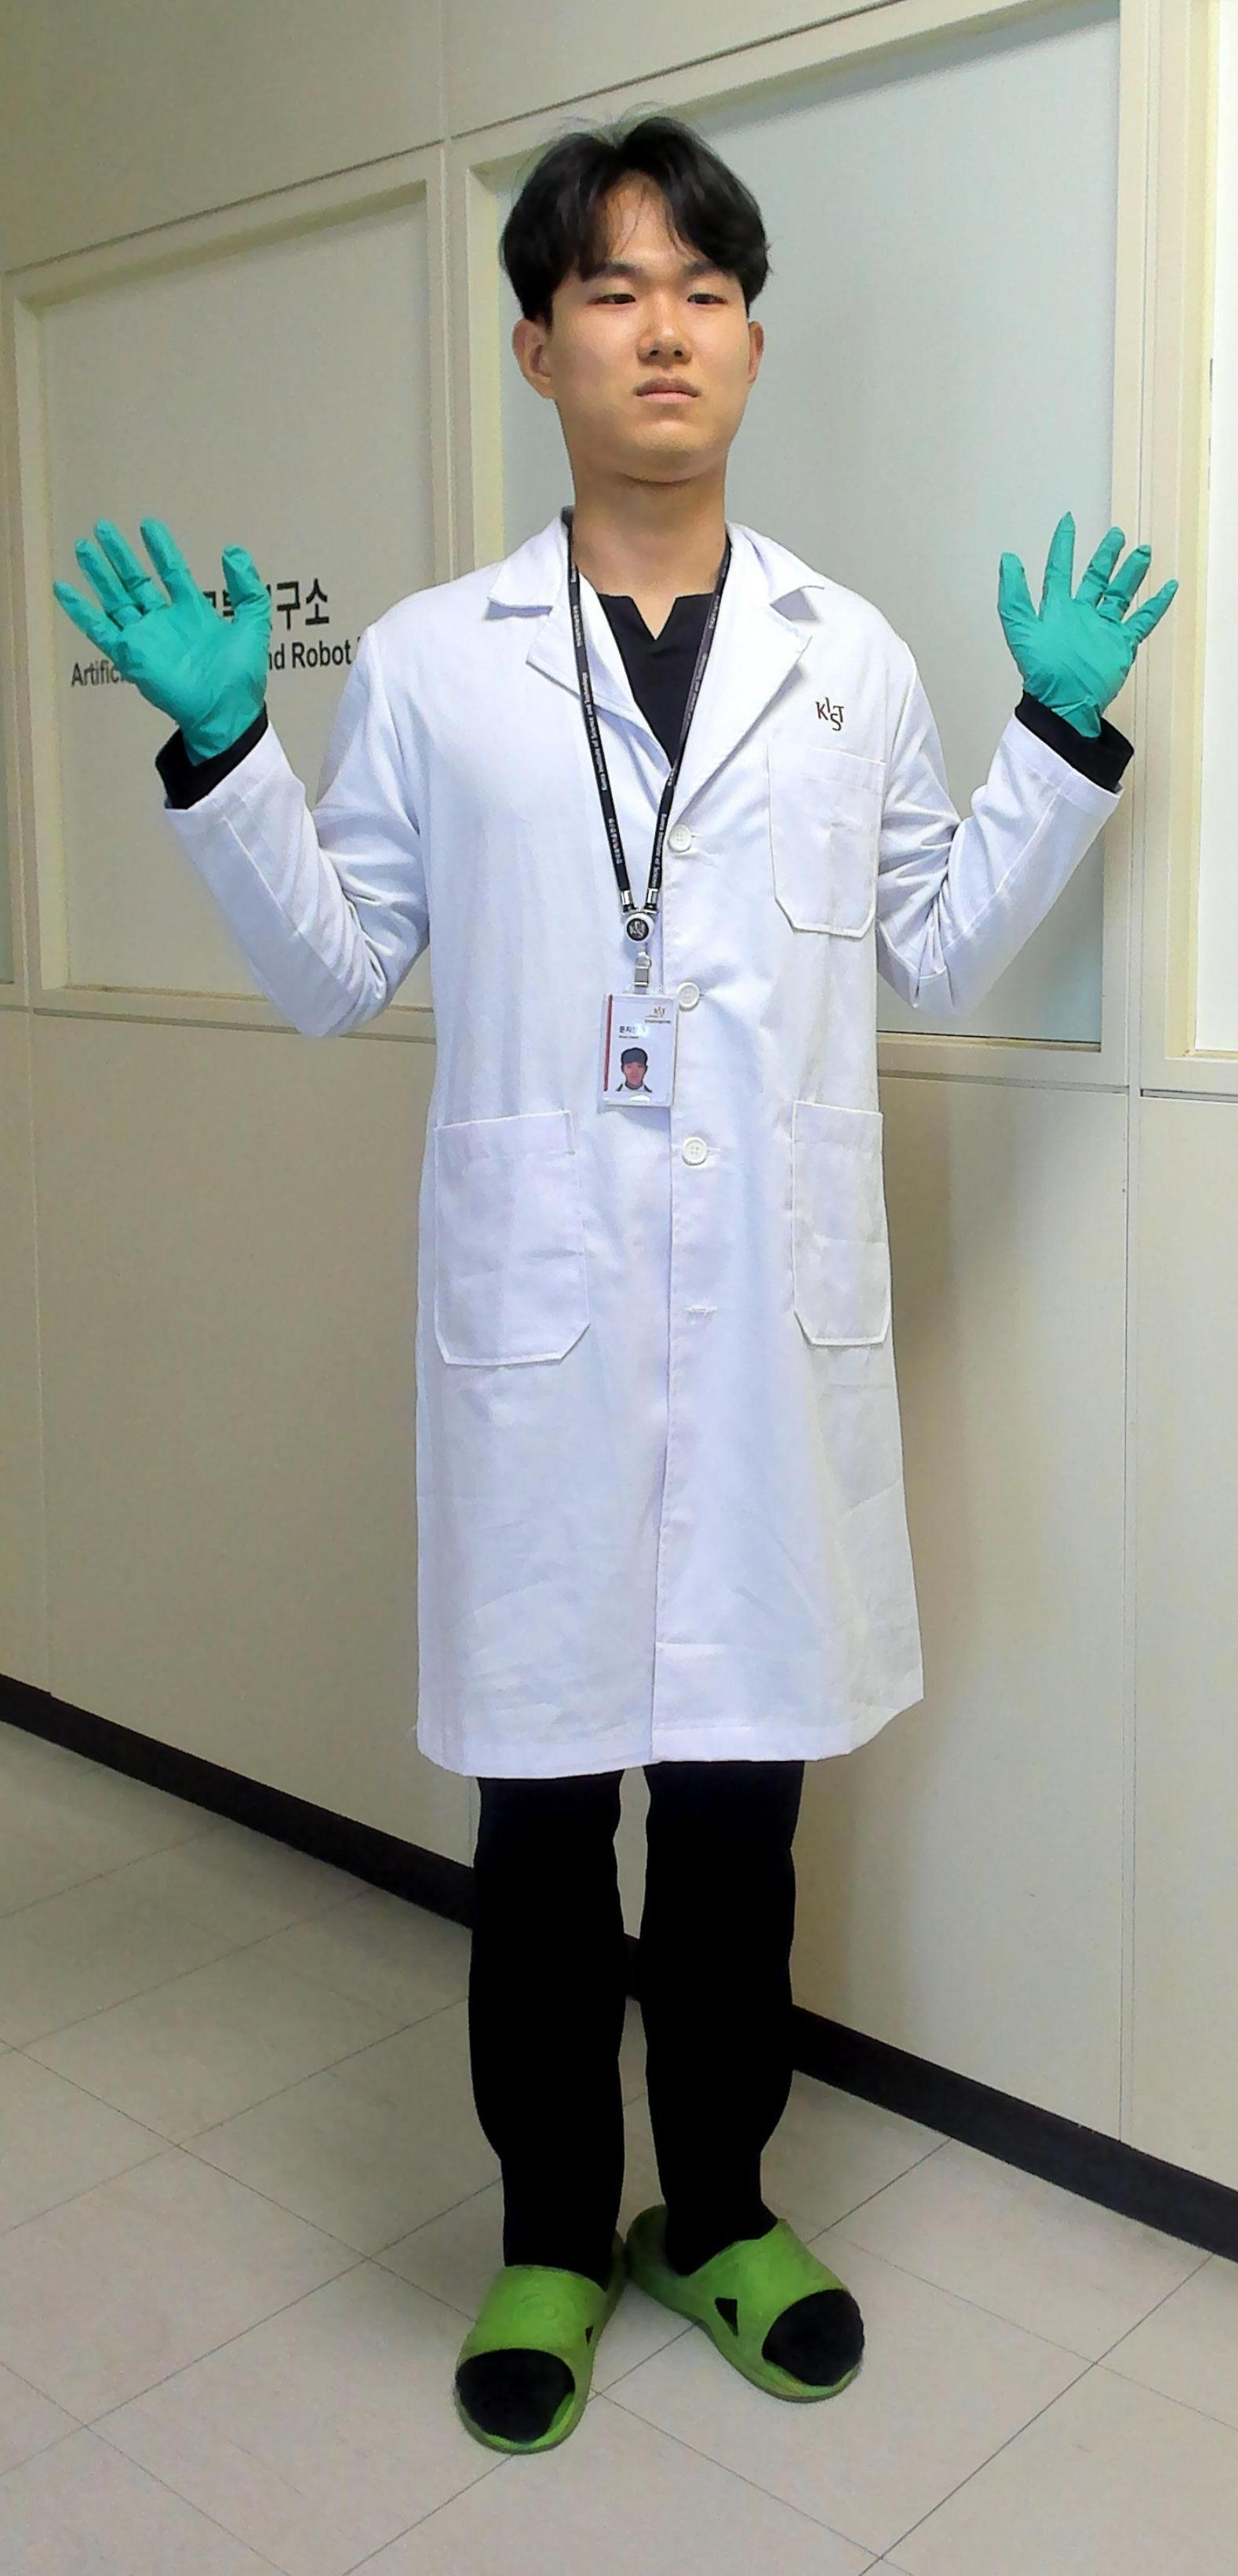lab_coat: (163, 503, 1121, 1776)
